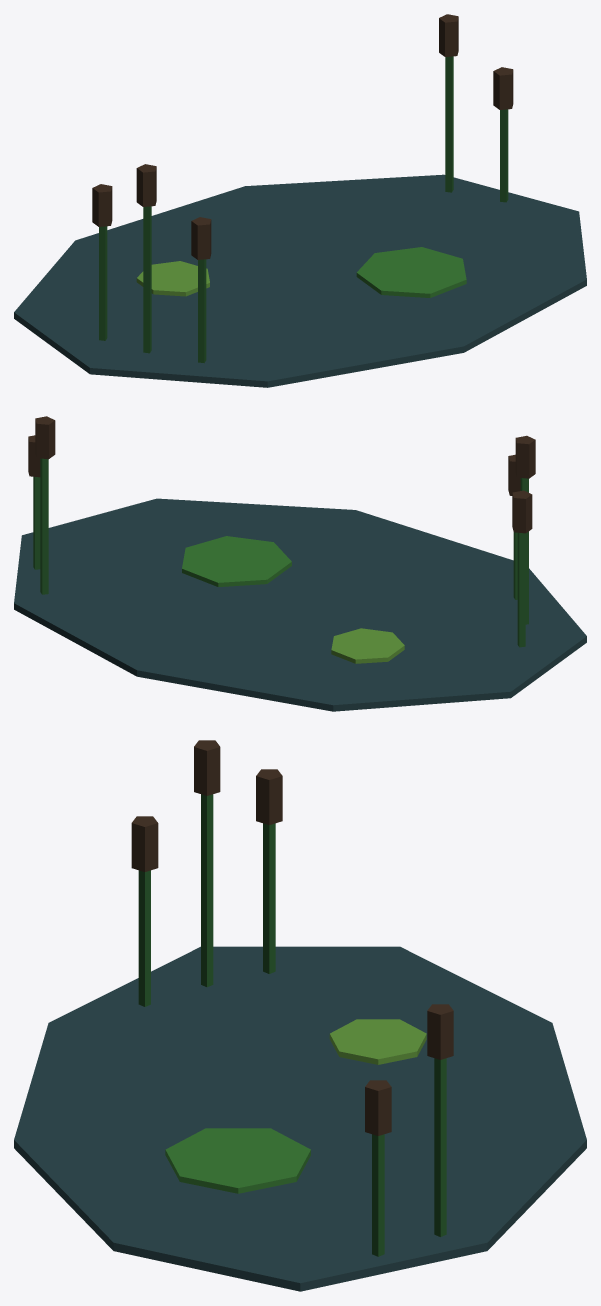
The model's file is bog_pool.glb.
The picture shows the model from 3 angles, top to bottom: view 1: azimuth 30°, elevation 25°; view 2: azimuth 150°, elevation 25°; view 3: azimuth 270°, elevation 25°; orthographic projection. The views are drawn at different scales.
Visible parts, largest first — view 1: bog_pool; view 2: bog_pool; view 3: bog_pool.
Part boxes in pixels (bbox=[...]): bog_pool: bbox=[14, 14, 586, 387]; bog_pool: bbox=[14, 416, 586, 711]; bog_pool: bbox=[14, 740, 586, 1291].
Bounding box in the file's own units: 2.56 × 0.88 × 1.84.
